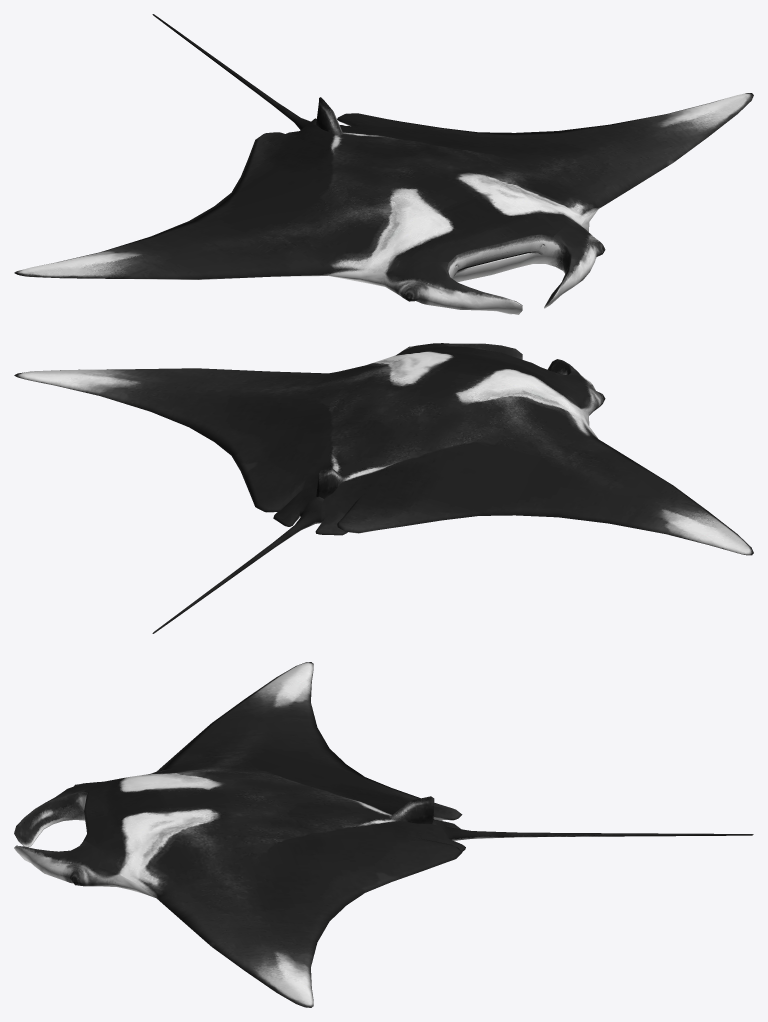
The model's file is manta.glb.
3 renders of one model, top to bottom at view 1: azimuth 30°, elevation 25°; view 2: azimuth 150°, elevation 25°; view 3: azimuth 270°, elevation 25°, orthographic. The views are drawn at different scales.
Visible parts, largest first — view 1: Object_7_baked; view 2: Object_7_baked; view 3: Object_7_baked.
Part boxes in pixels (bbox=[...]): Object_7_baked: bbox=[14, 14, 753, 314]; Object_7_baked: bbox=[14, 343, 753, 633]; Object_7_baked: bbox=[14, 662, 753, 1007].
Size of the model in its own units: 8.99 by 0.8185 by 8.12.
1 material, 1 textured.
